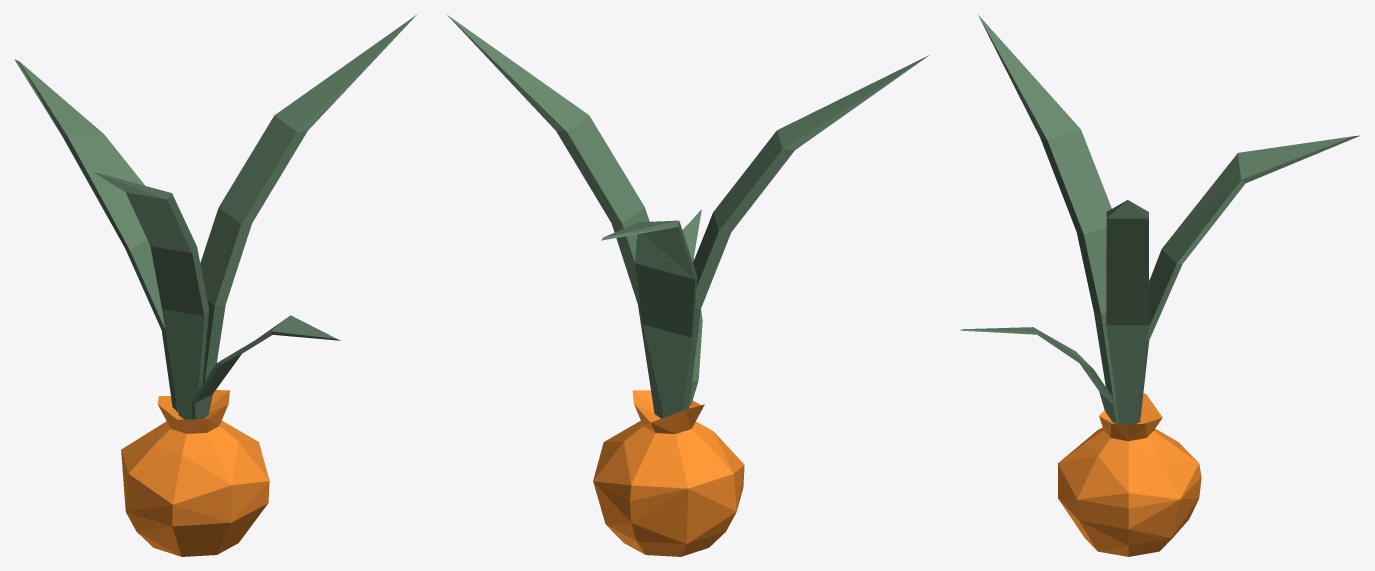
File: mod_vg_onionM.fbx
The picture shows the model from 3 angles, left to right: view 1: azimuth 30°, elevation 25°; view 2: azimuth 150°, elevation 25°; view 3: azimuth 270°, elevation 25°; orthographic projection. The views are drawn at different scales.
Visible parts, largest first — view 1: onion; view 2: onion; view 3: onion.
Boxes of the visible parts, <box> form: onion: <box>14,15,416,556</box>; onion: <box>447,15,929,556</box>; onion: <box>959,15,1359,556</box>.
Bounding box in the file's own units: 35.58 × 40.55 × 32.53.
